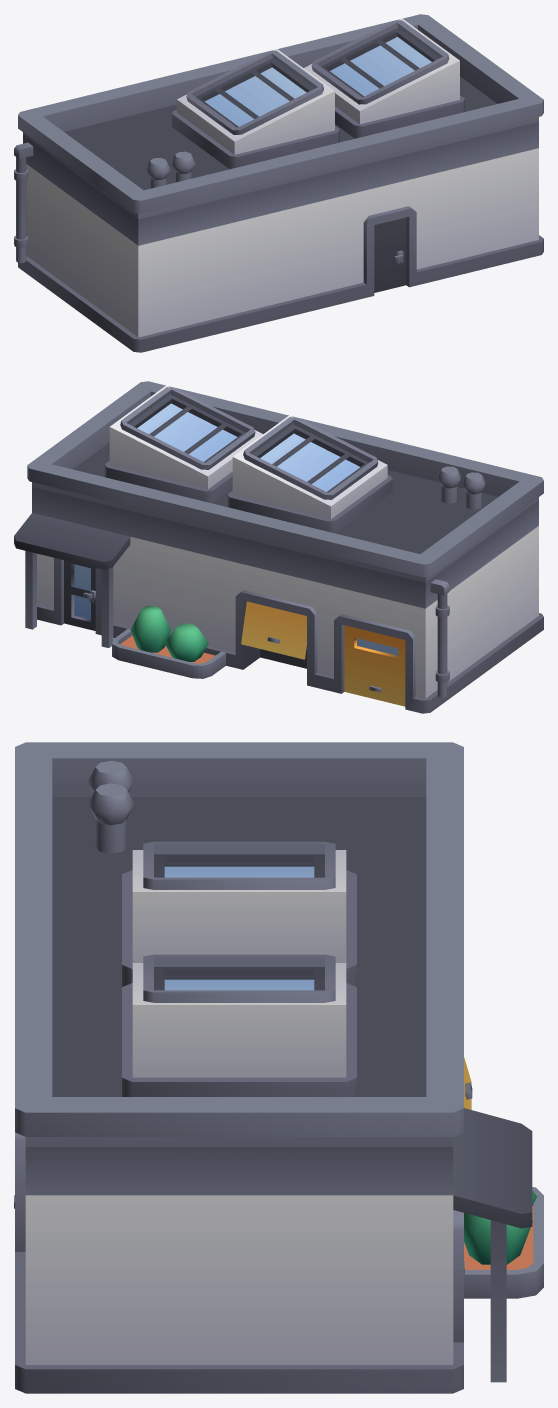
The model's file is building-p.glb.
The picture shows the model from 3 angles, top to bottom: view 1: azimuth 30°, elevation 25°; view 2: azimuth 150°, elevation 25°; view 3: azimuth 270°, elevation 25°; orthographic projection. The views are drawn at different scales.
Visible parts, largest first — view 1: building-p; view 2: building-p; view 3: building-p.
Boxes of the visible parts, left/top/right/bottom form: building-p: left=14, top=14, right=543, bottom=352; building-p: left=14, top=381, right=543, bottom=713; building-p: left=14, top=742, right=543, bottom=1393.
Size of the model in its own units: 1.68 by 0.7144 by 0.992.
1 material, 1 textured.
